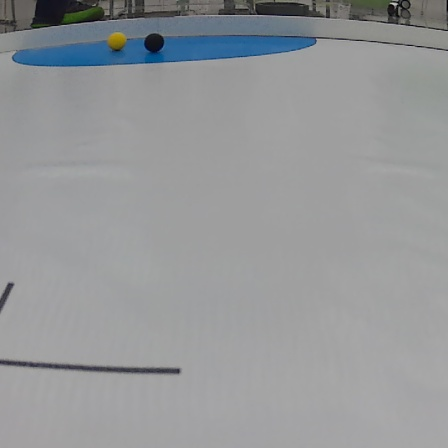black: (144, 35, 163, 54)
blue_base: (8, 36, 321, 68)
yellow: (108, 31, 126, 50)
